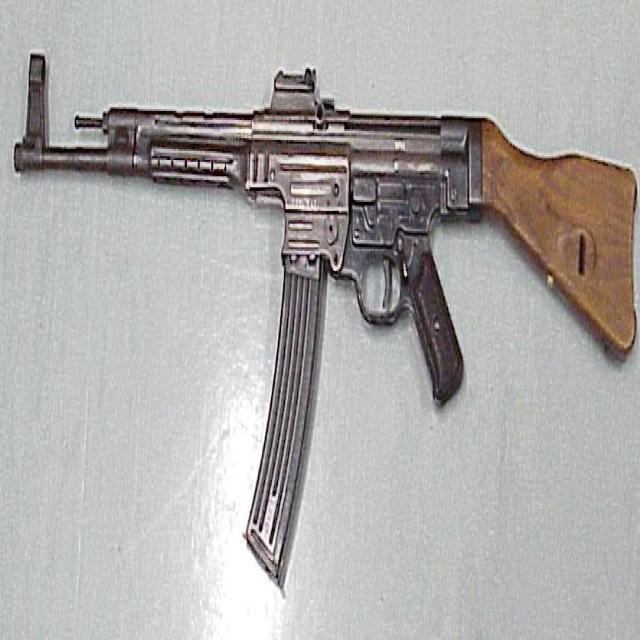Weapon: (13, 53, 636, 584)
